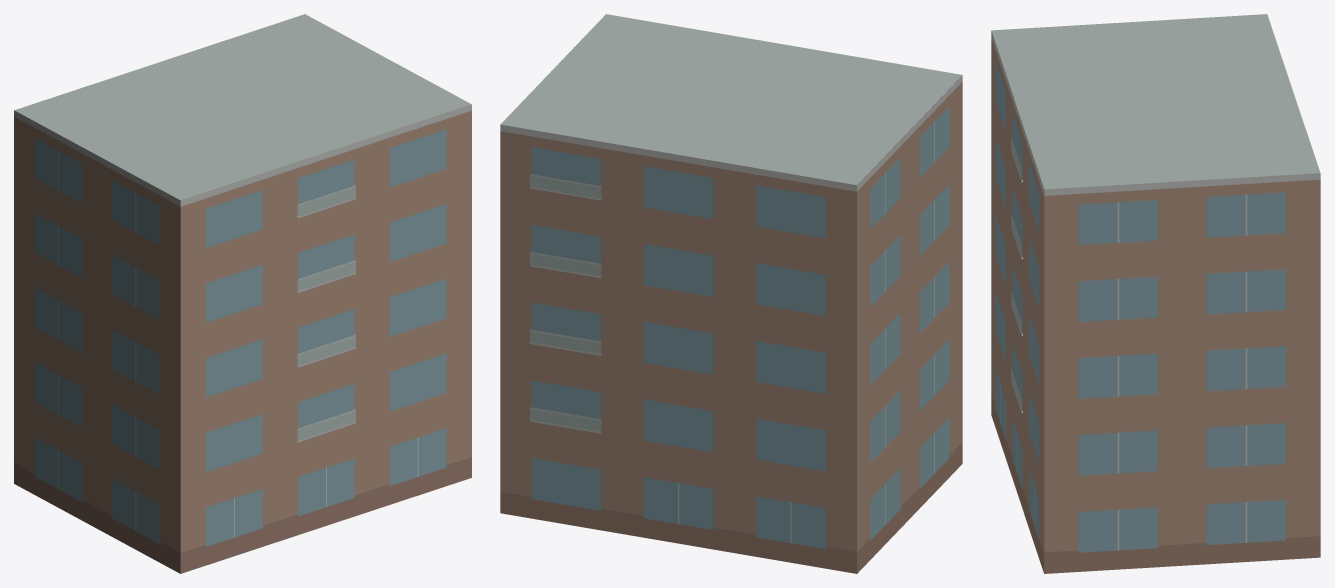
Rendered from survey-upis-32576755.glb.
3 renders of one model, left to right at view 1: azimuth 30°, elevation 25°; view 2: azimuth 150°, elevation 25°; view 3: azimuth 270°, elevation 25°, orthographic. The views are drawn at different scales.
Parts seen in each view (by area): view 1: survey-upis-32576755.tmp; view 2: survey-upis-32576755.tmp; view 3: survey-upis-32576755.tmp.
Boxes of the visible parts, x1,y1,x2,y2 form: survey-upis-32576755.tmp: (14,14,471,573); survey-upis-32576755.tmp: (500,14,962,573); survey-upis-32576755.tmp: (991,14,1320,573).
Size of the model in its own units: 14.21 by 14.5 by 11.27.
